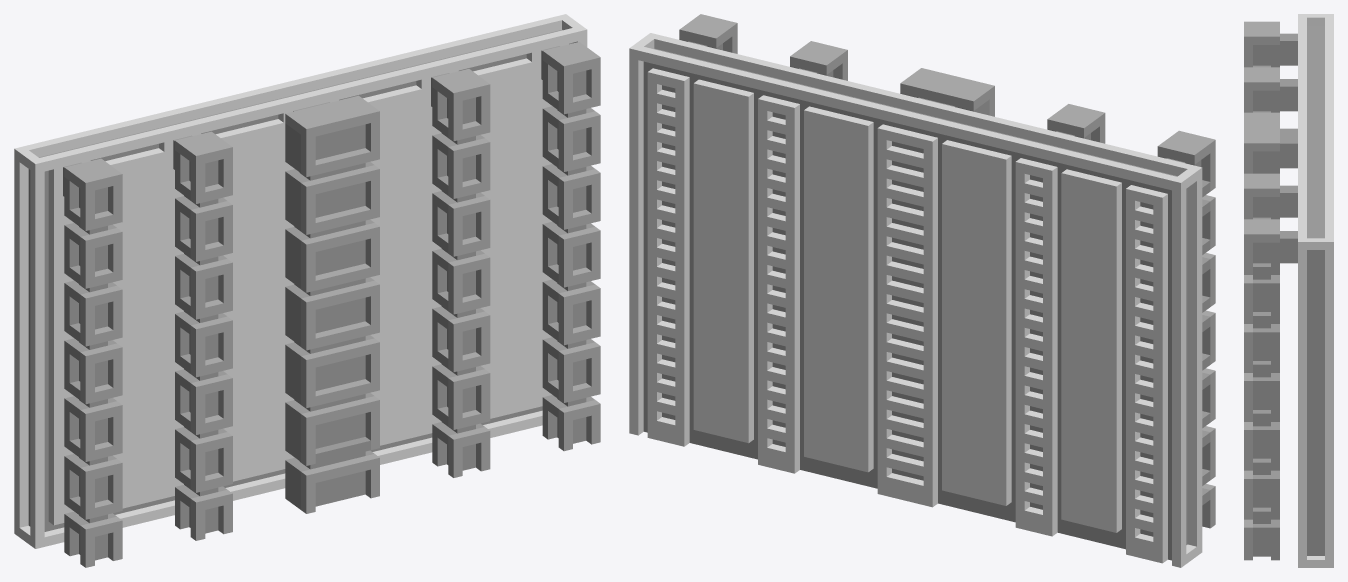
Rendered from Main Hall Wall.obj.
3 renders of one model, left to right at view 1: azimuth 30°, elevation 25°; view 2: azimuth 150°, elevation 25°; view 3: azimuth 270°, elevation 25°, orthographic. The views are drawn at different scales.
Bounding box in the file's own units: 60 × 40 × 10.
Materials: 1 (1 with a texture image).
